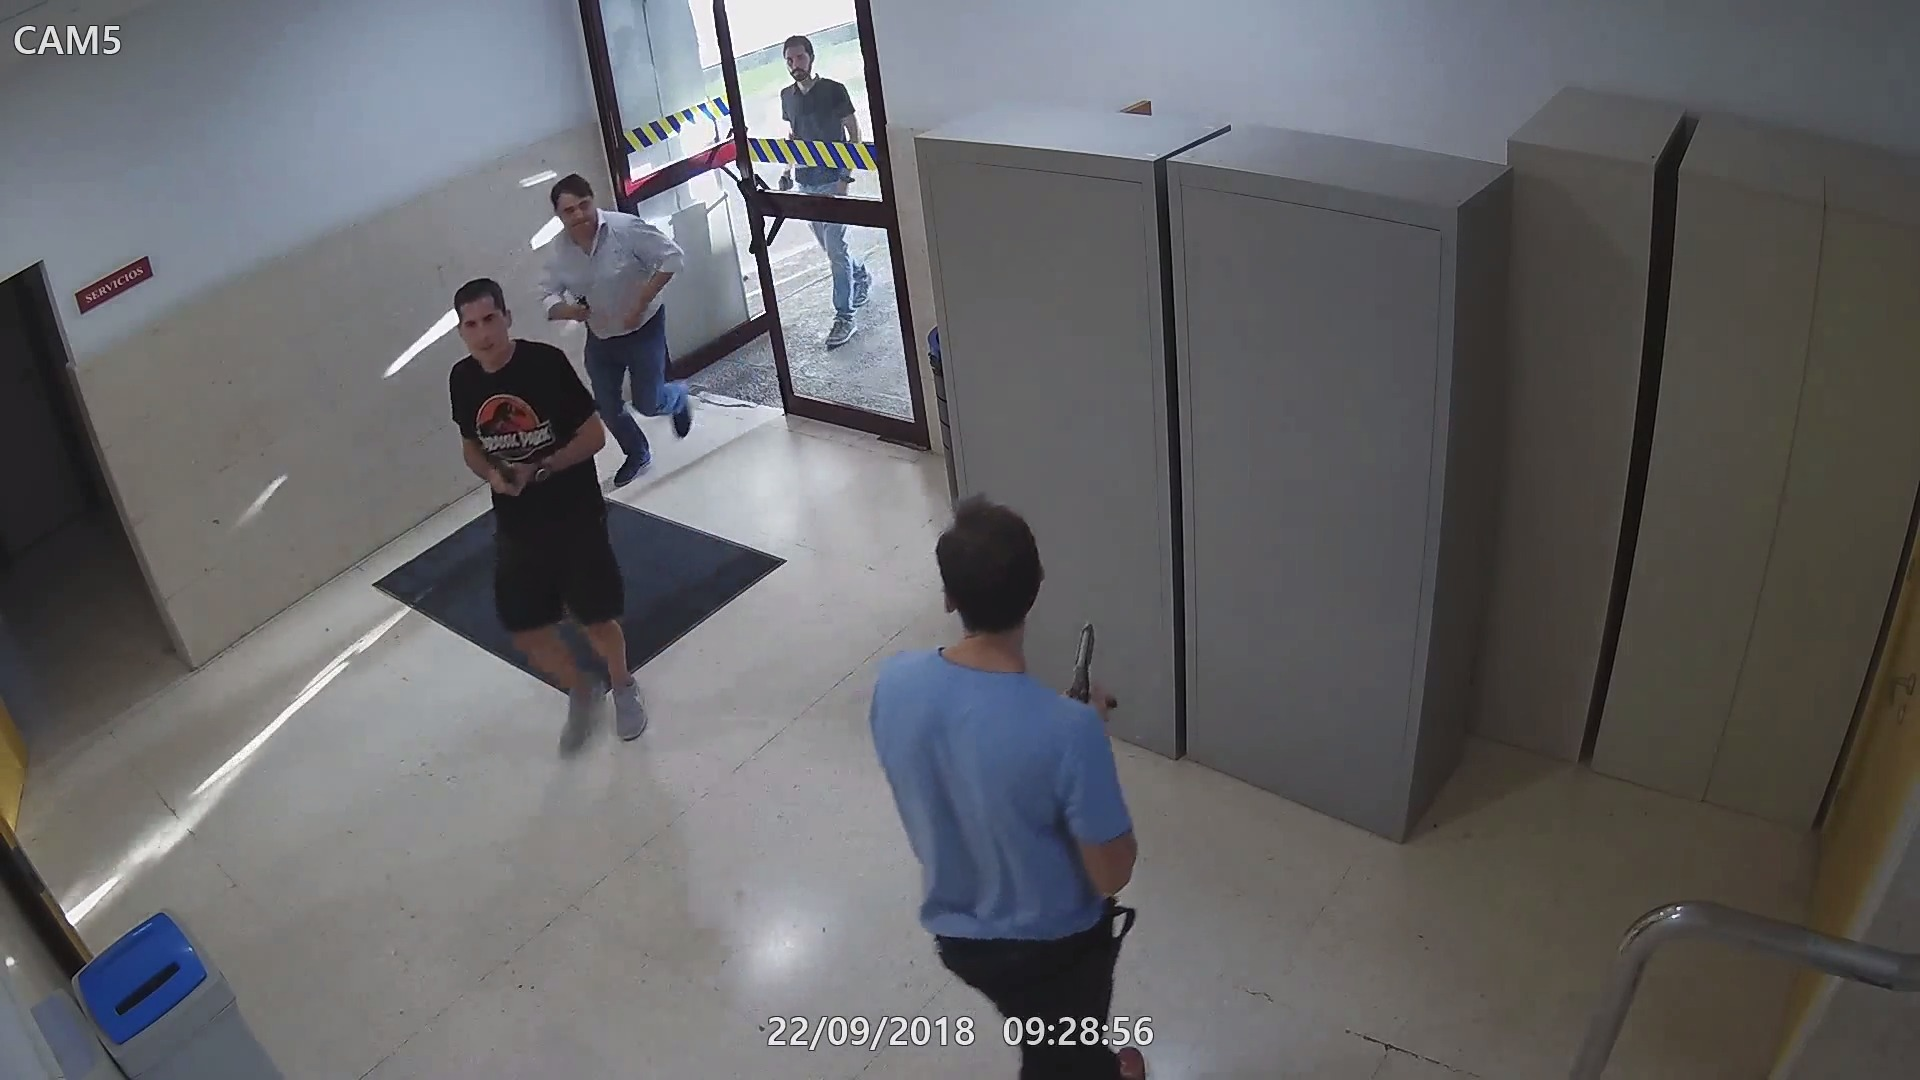Handgun: (1056, 613, 1112, 716), (481, 442, 522, 497), (567, 294, 593, 323), (778, 166, 793, 194)
